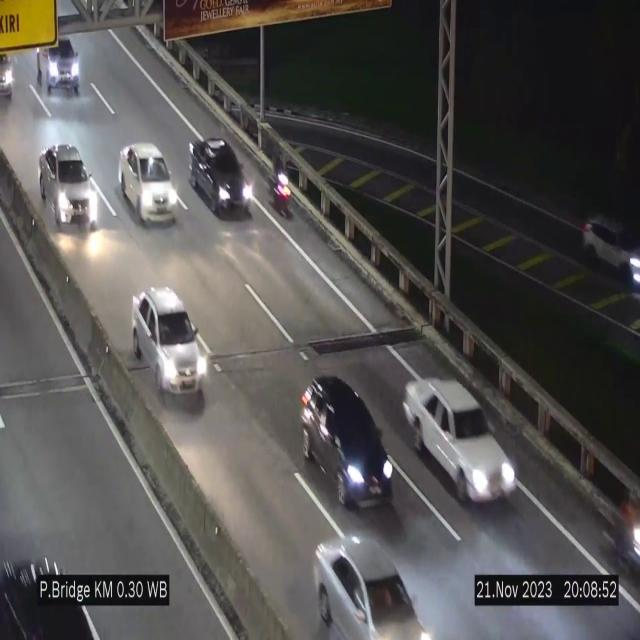Car: (313, 521, 435, 640), (403, 377, 519, 502), (298, 367, 397, 509), (132, 288, 206, 404), (38, 137, 102, 242), (186, 136, 258, 220), (579, 204, 640, 286), (119, 143, 178, 224), (36, 34, 94, 98), (0, 50, 18, 106)
Motorcycle: (271, 154, 296, 226)
